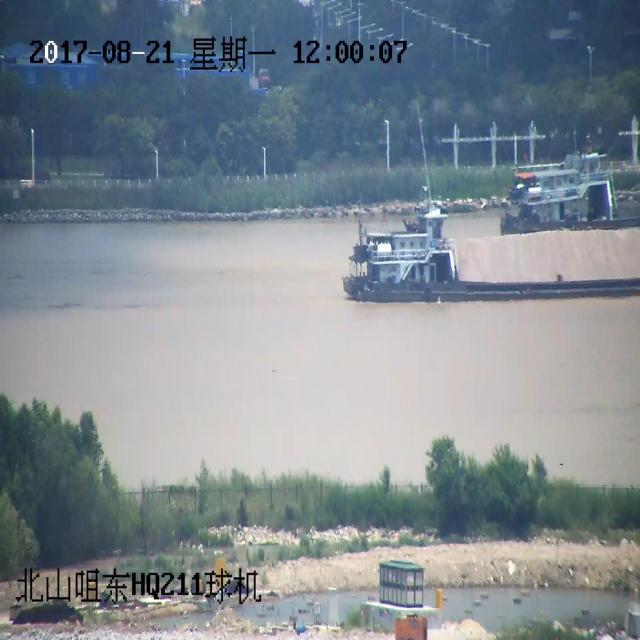cargoship: (332, 170, 634, 316)
